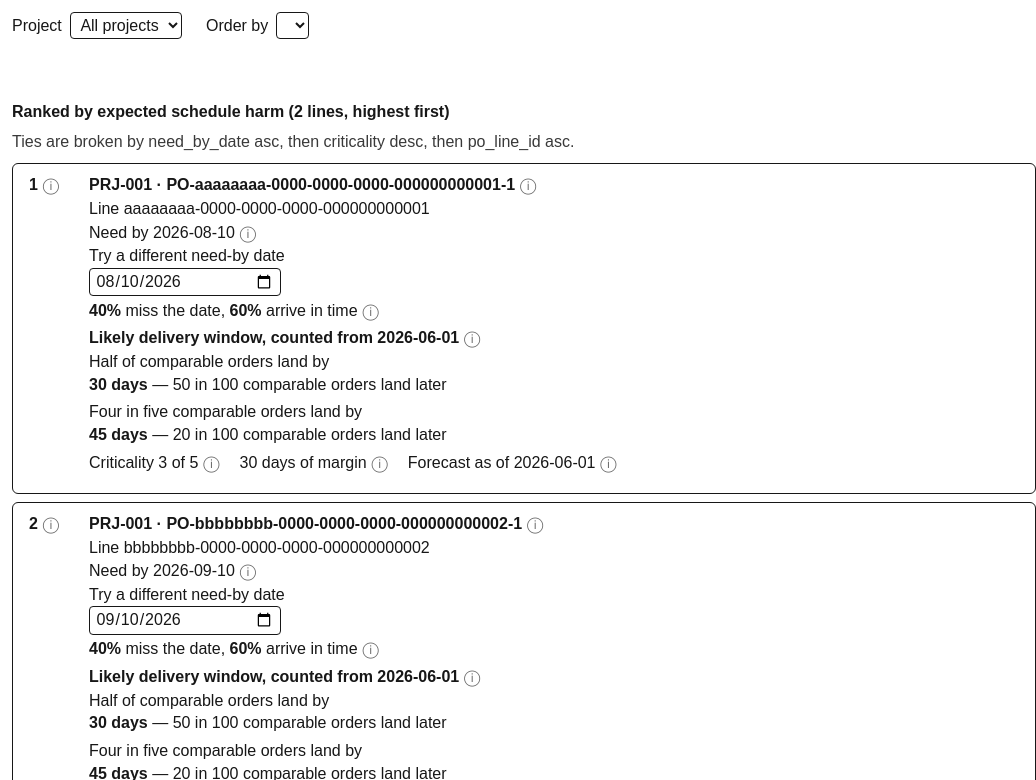
adjusting a need-by date › acknowledges a reorder and names the new position
This screenshot has width=1036, height=780.
Type "2026-07-01" into the date field labelled "Try a different need-by date" below "2026-08-10" at (185, 282), box x1=89 y1=268 x2=281 y2=296
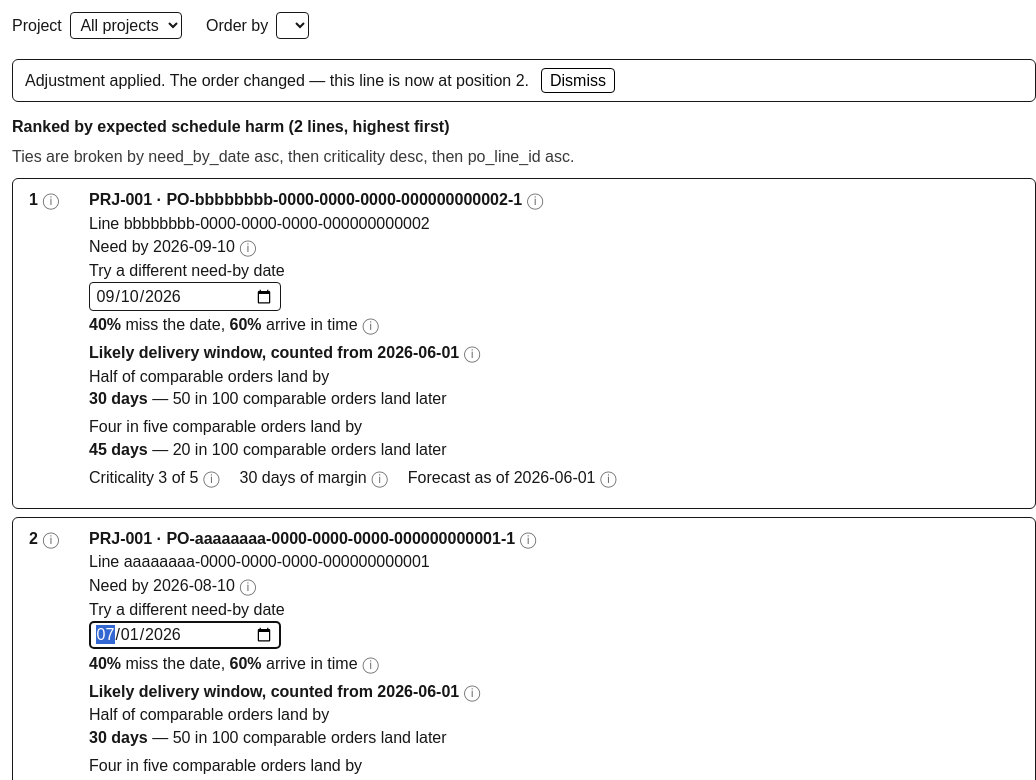
Result: the message named "Adjustment status" shows "order changed" at x1=25 y1=72 x2=529 y2=89
Result: the message named "Adjustment status" shows "position 2" at x1=25 y1=72 x2=529 y2=89
